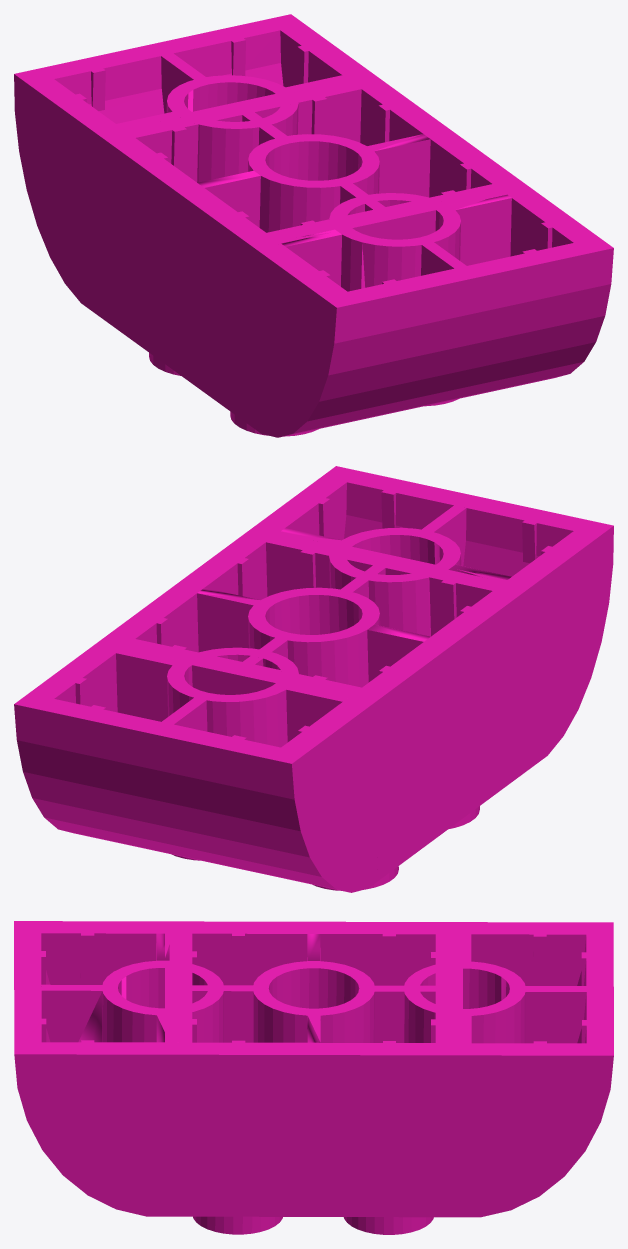
The model's file is duplo3_5.dae.
3 views of the same model, one above another, from view 1: azimuth 30°, elevation 25°; view 2: azimuth 150°, elevation 25°; view 3: azimuth 270°, elevation 25° (orthographic). The views are drawn at different scales.
Parts seen in each view (by area): view 1: duplo3_019; view 2: duplo3_019; view 3: duplo3_019.
Boxes of the visible parts, <box> form: duplo3_019: <box>14,14,613,437</box>; duplo3_019: <box>14,466,613,892</box>; duplo3_019: <box>14,921,613,1234</box>.
Size of the model in its own units: 0.0801 by 0.1585 by 0.059.
